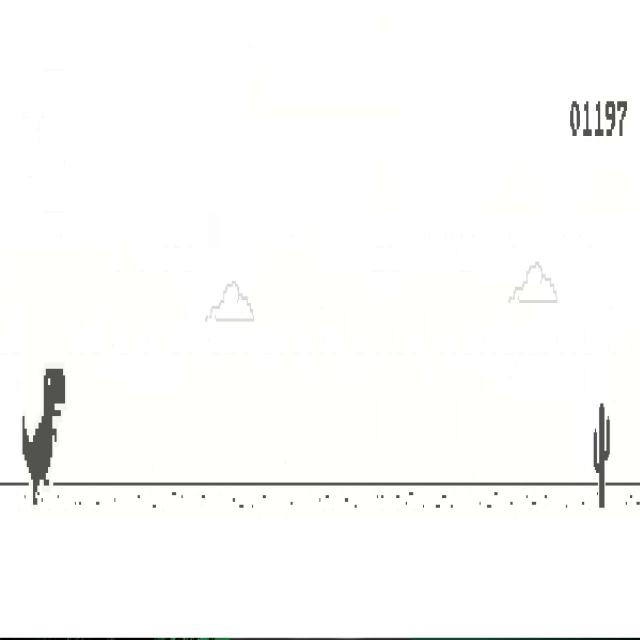cacto: (593, 402, 611, 509)
dino: (21, 368, 66, 507)
